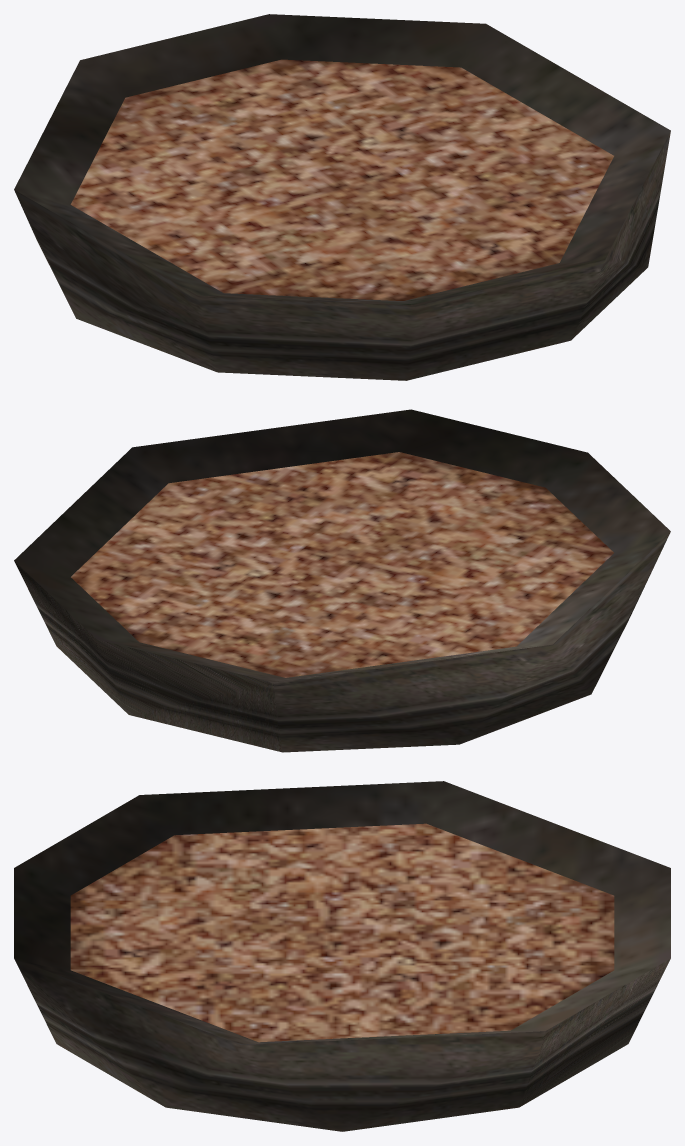
File: edb_con_tato_bowl_full_s01_l1.fbx
3 renders of one model, top to bottom at view 1: azimuth 30°, elevation 25°; view 2: azimuth 150°, elevation 25°; view 3: azimuth 270°, elevation 25°, orthographic. The views are drawn at different scales.
Parts seen in each view (by area): view 1: mesh_node; view 2: mesh_node; view 3: mesh_node.
Boxes of the visible parts, x1,y1,x2,y2 form: mesh_node: (14,14,670,380); mesh_node: (14,409,670,752); mesh_node: (14,781,670,1131).
Size of the model in its own units: 0.492 by 0.1382 by 0.5173.
